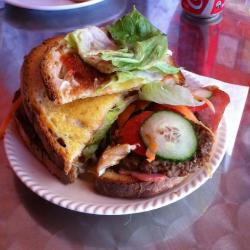salad: (101, 13, 183, 77)
